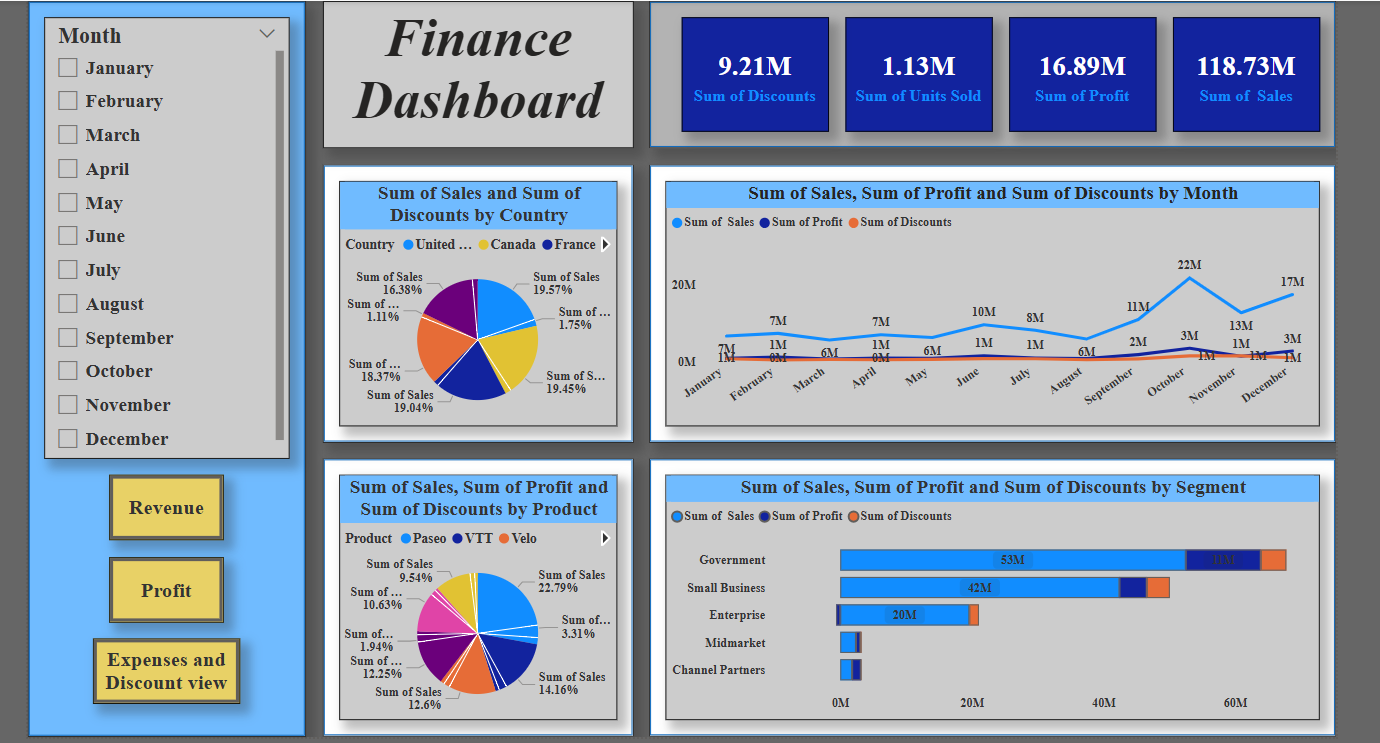

This screenshot's page, from the dashboard's own definition file:
{"tool":"powerbi","page":{"name":"Overview","canvas":[1280,720],"ordinal":0},"visuals":[{"type":"shape","box":[0,0,272,720],"z":0},{"type":"shape","box":[288,448,304,272],"z":1000},{"type":"shape","box":[608,448,672,272],"z":2000},{"type":"shape","box":[288,160,304,272],"z":3000},{"type":"shape","box":[608,160,672,272],"z":4000},{"type":"shape","box":[608,0,672,144],"z":5000},{"type":"pieChart","fields":{"Y":["Sum(financials. Sales)","Sum(financials.Discounts)"],"Category":["financials.Country","financials.Product"]},"box":[304,176,272,240],"z":6000},{"type":"card","fields":{"Values":["Sum(financials. Sales)"]},"box":[1120,16,144,112],"z":7000},{"type":"card","fields":{"Values":["Sum(financials.Units Sold)"]},"box":[800,16,144,112],"z":8000},{"type":"card","fields":{"Values":["Sum(financials.Discounts)"]},"box":[640,16,144,112],"z":9000},{"type":"card","fields":{"Values":["Sum(financials.Profit)"]},"box":[960,16,144,112],"z":10000},{"type":"lineChart","fields":{"Category":["financials.Date.Variation.Date Hierarchy.Year","financials.Date.Variation.Date Hierarchy.Quarter","financials.Date.Variation.Date Hierarchy.Month"],"Y":["Sum(financials. Sales)","Sum(financials.Profit)","Sum(financials.Discounts)"]},"box":[624,176,640,240],"z":11000},{"type":"barChart","fields":{"Category":["financials.Segment"],"Y":["Sum(financials. Sales)","Sum(financials.Profit)","Sum(financials.Discounts)"]},"box":[624,464,640,240],"z":12000},{"type":"pieChart","fields":{"Category":["financials.Product"],"Y":["Sum(financials. Sales)","Sum(financials.Profit)","Sum(financials.Discounts)"]},"box":[304,464,272,240],"z":13000},{"type":"slicer","fields":{"Values":["financials.Date.Variation.Date Hierarchy.Month"]},"box":[16,16,240,432],"z":14000},{"type":"actionButton","box":[80,464,112,64],"z":15000},{"type":"actionButton","box":[80,544,112,64],"z":16000},{"type":"actionButton","box":[64,624,144,64],"z":17000},{"type":"textbox","box":[288,0,304,144],"z":18000}]}

Visuals, with their boxes in screenshot pixels (x1, y1, x2, y2):
shape: 25, 0, 302, 734
shape: 319, 456, 628, 734
shape: 645, 456, 1329, 734
shape: 319, 163, 628, 440
shape: 645, 163, 1329, 440
shape: 645, 0, 1329, 147
pieChart - Sum(financials. Sales) x Sum(financials.Discounts): 335, 179, 612, 424
card - Sum(financials. Sales): 1166, 16, 1313, 130
card - Sum(financials.Units Sold): 840, 16, 987, 130
card - Sum(financials.Discounts): 677, 16, 824, 130
card - Sum(financials.Profit): 1003, 16, 1150, 130
lineChart - financials.Date.Variation.Date Hierarchy.Year x financials.Date.Variation.Date Hierarchy.Quarter: 661, 179, 1313, 424
barChart - financials.Segment x Sum(financials. Sales): 661, 473, 1313, 717
pieChart - financials.Product x Sum(financials. Sales): 335, 473, 612, 717
slicer - financials.Date.Variation.Date Hierarchy.Month: 41, 16, 286, 456
actionButton: 107, 473, 221, 538
actionButton: 107, 554, 221, 620
actionButton: 90, 636, 237, 701
textbox: 319, 0, 628, 147
